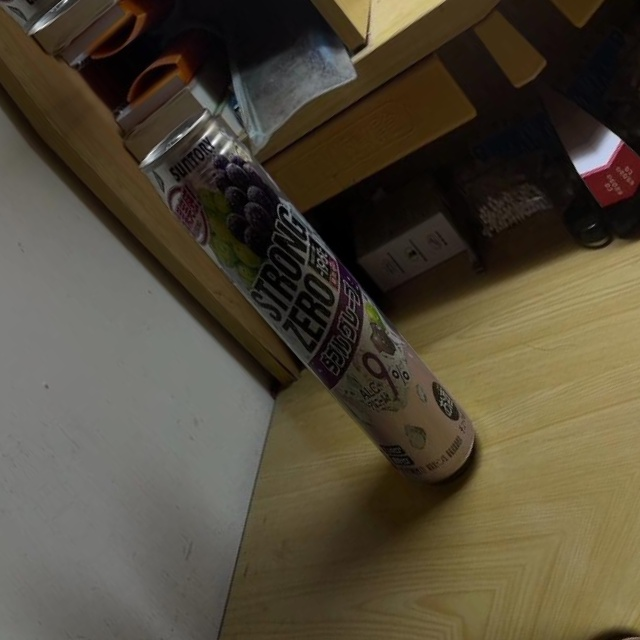Liquor: (130, 100, 497, 511)
